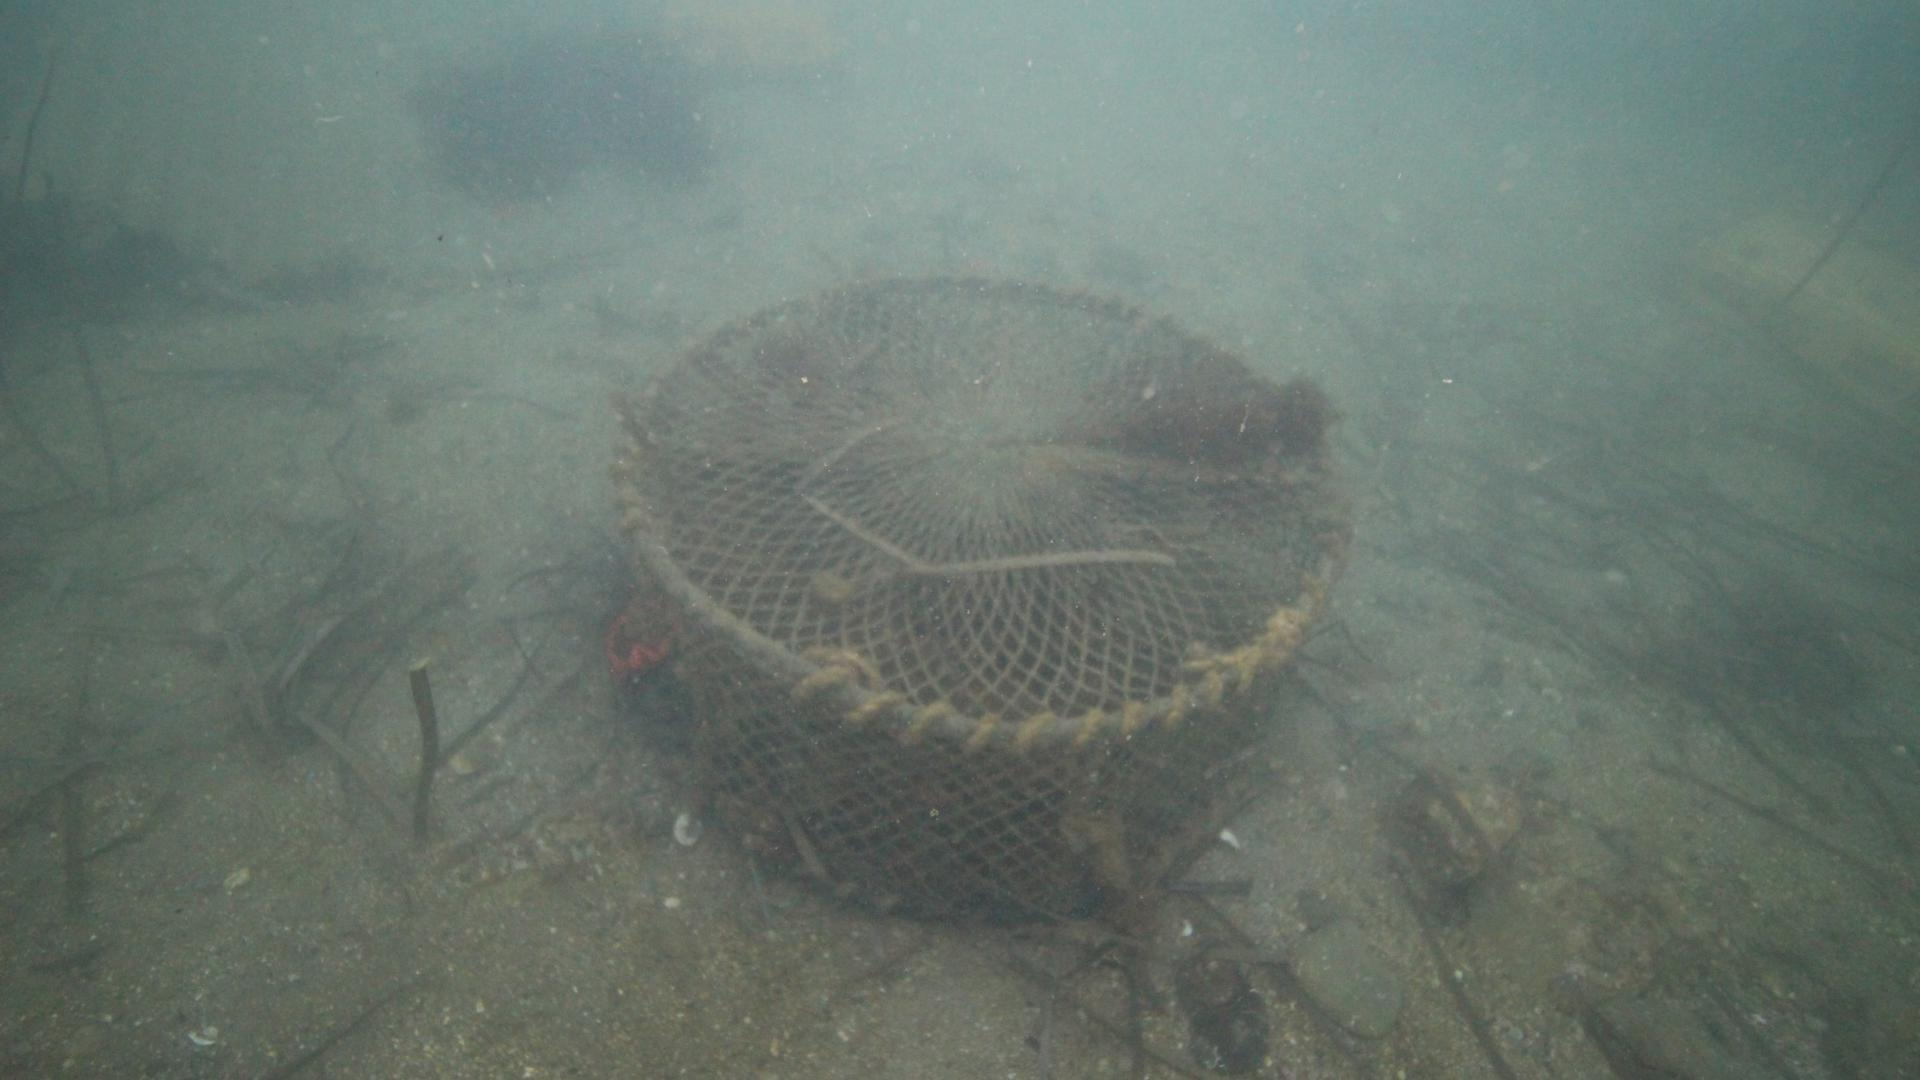circular fish trap: (609, 274, 1354, 926)
